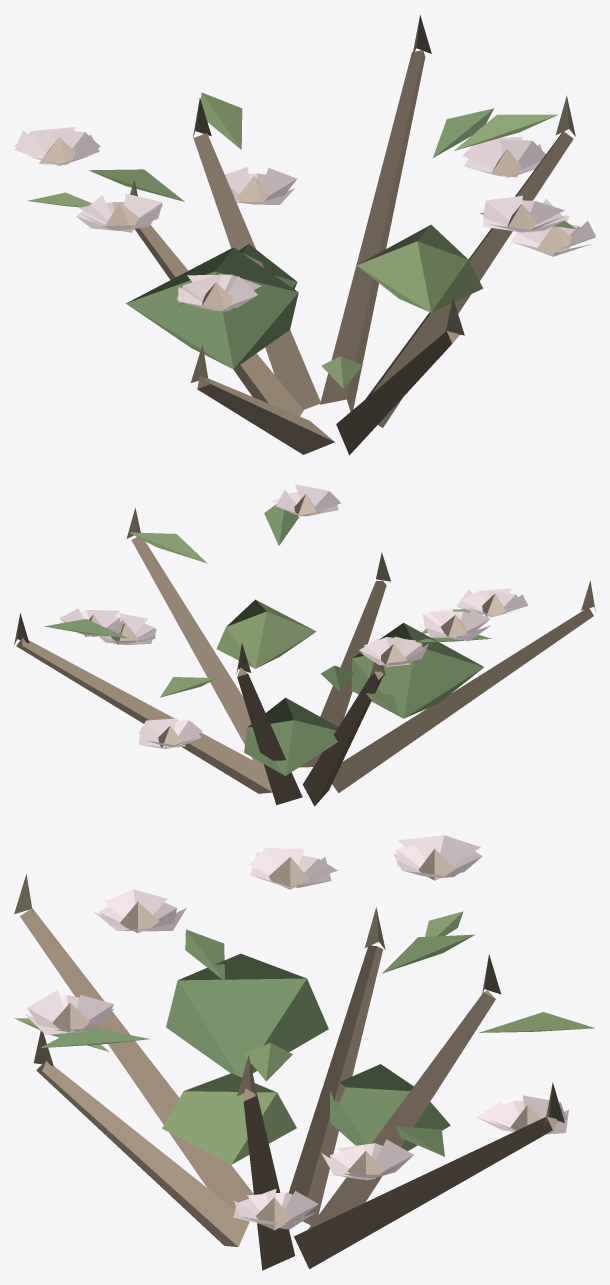
File: cao.hanji@flowering__summer.glb
3 views of the same model, one above another, from view 1: azimuth 30°, elevation 25°; view 2: azimuth 150°, elevation 25°; view 3: azimuth 270°, elevation 25° (orthographic). The views are drawn at different scales.
Parts seen in each view (by area): view 1: cao.hanji@flowering__summer; view 2: cao.hanji@flowering__summer; view 3: cao.hanji@flowering__summer.
Boxes of the visible parts, x1,y1,x2,y2 form: cao.hanji@flowering__summer: (14, 15, 595, 455); cao.hanji@flowering__summer: (14, 484, 595, 806); cao.hanji@flowering__summer: (14, 835, 595, 1270).
Bounding box in the file's own units: 2.12 × 1.17 × 1.99.
